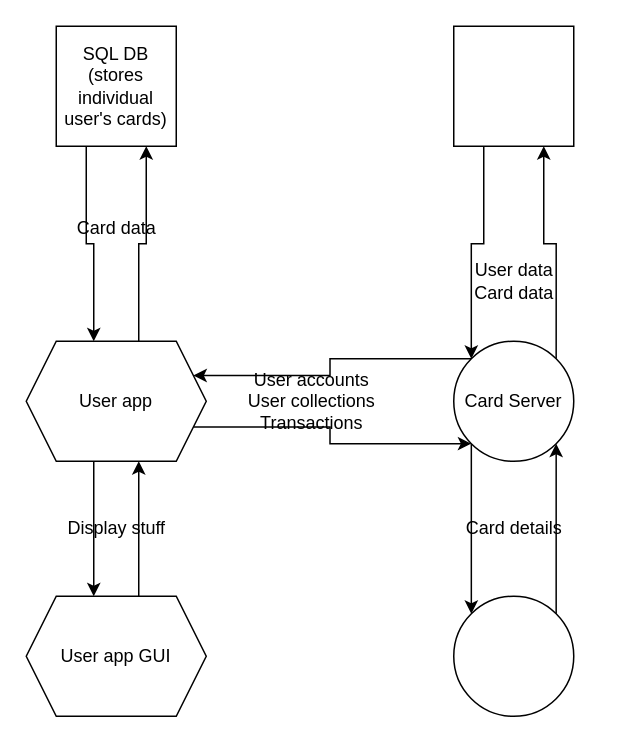
Some shapes in this 641 by 743 pixel diagram are drawn without their labels. The shapes that lost their labels are listed below. From the top down, each one's centre as x and y in pixels, then its label:
the point at 513,85: SQL DB (Stores users, their cards, transactions)
the point at 513,655: MTG API
